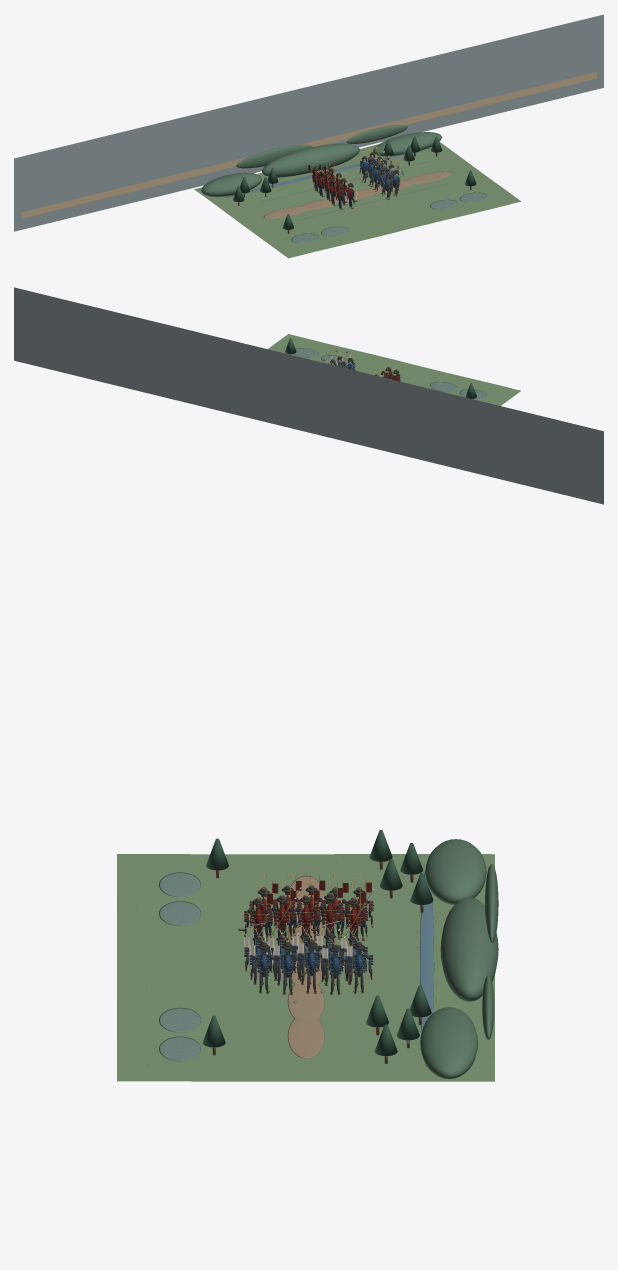
The model's file is samurai_battlefield_pack.glb.
3 views of the same model, one above another, from view 1: azimuth 30°, elevation 25°; view 2: azimuth 150°, elevation 25°; view 3: azimuth 270°, elevation 25° (orthographic). The views are drawn at different scales.
Parts seen in each view (by area): view 1: painted dawn sky backdrop, rolling shinano countryside battlefield ground, warm low horizon haze band, distant center mountain ridge, distant left cedar hill, distant right cedar hill, far blue shinano mountain silhouette, far right shinano mountain silhouette, narrow blue river channel; view 2: painted dawn sky backdrop, rolling shinano countryside battlefield ground; view 3: rolling shinano countryside battlefield ground, distant center mountain ridge, distant right cedar hill, distant left cedar hill, narrow blue river channel, worn muddy road oval.004, worn muddy road oval.003.
Boxes of the visible parts, left/top/right/bottom form: painted dawn sky backdrop: left=14, top=14, right=603, bottom=231; rolling shinano countryside battlefield ground: left=194, top=142, right=520, bottom=258; warm low horizon haze band: left=21, top=72, right=596, bottom=218; distant center mountain ridge: left=262, top=143, right=359, bottom=177; distant left cedar hill: left=201, top=172, right=261, bottom=196; distant right cedar hill: left=373, top=132, right=441, bottom=156; far blue shinano mountain silhouette: left=236, top=144, right=312, bottom=168; far right shinano mountain silhouette: left=346, top=125, right=407, bottom=143; narrow blue river channel: left=225, top=148, right=428, bottom=197; painted dawn sky backdrop: left=14, top=287, right=603, bottom=504; rolling shinano countryside battlefield ground: left=268, top=334, right=520, bottom=405; rolling shinano countryside battlefield ground: left=117, top=854, right=494, bottom=1081; distant center mountain ridge: left=440, top=897, right=498, bottom=1001; distant right cedar hill: left=420, top=1007, right=477, bottom=1079; distant left cedar hill: left=425, top=839, right=486, bottom=904; narrow blue river channel: left=420, top=869, right=434, bottom=1066; worn muddy road oval.004: left=287, top=1018, right=324, bottom=1058; worn muddy road oval.003: left=287, top=984, right=324, bottom=1018.
Bounding box in the file's own units: 40 × 5.06 × 11.27.
